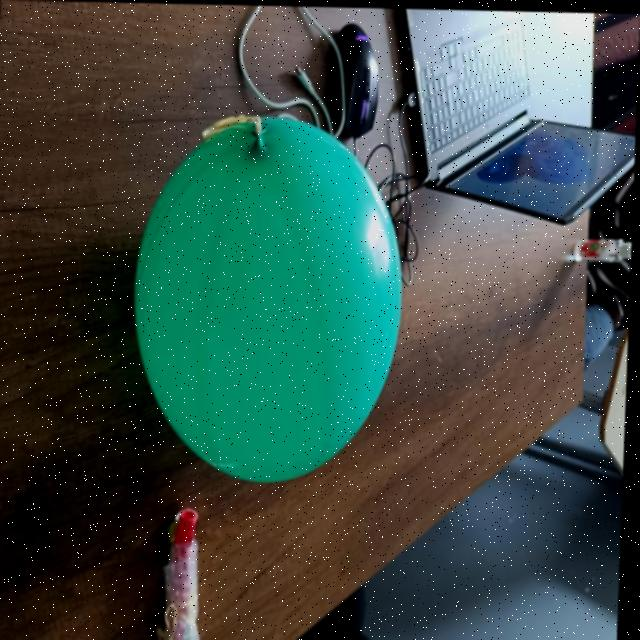balloon: (133, 102, 413, 482)
